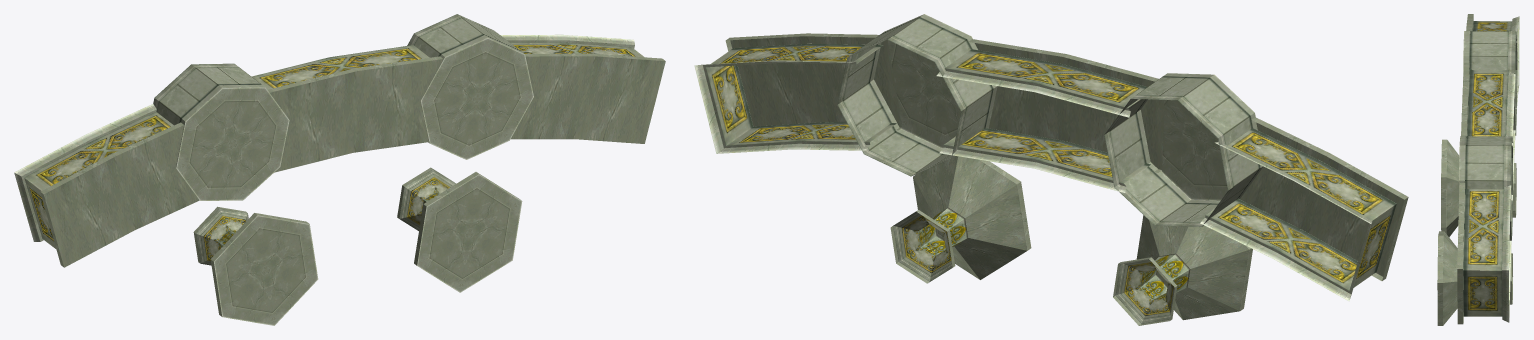
File: huodong_fuben_249_jianzhu_02.obj
The picture shows the model from 3 angles, left to right: view 1: azimuth 30°, elevation 25°; view 2: azimuth 150°, elevation 25°; view 3: azimuth 270°, elevation 25°; orthographic projection. The views are drawn at different scales.
Visible parts, largest first — view 1: huodong_fuben_249_jianzhu_02; view 2: huodong_fuben_249_jianzhu_02; view 3: huodong_fuben_249_jianzhu_02.
Part boxes in pixels (<box>): huodong_fuben_249_jianzhu_02: <box>14,14,665,325</box>; huodong_fuben_249_jianzhu_02: <box>694,14,1408,325</box>; huodong_fuben_249_jianzhu_02: <box>1437,14,1519,325</box>.
Size of the model in its own units: 372 by 143 by 52.64.
Materials: 4 (4 with a texture image).
